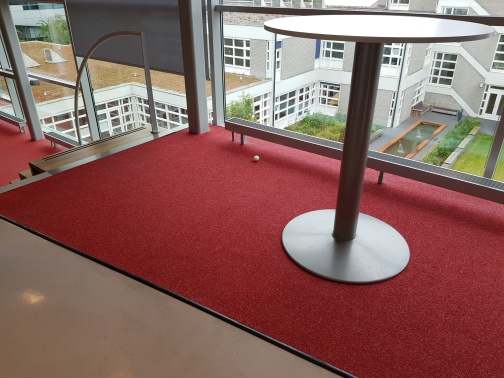egg: (250, 154, 262, 163)
